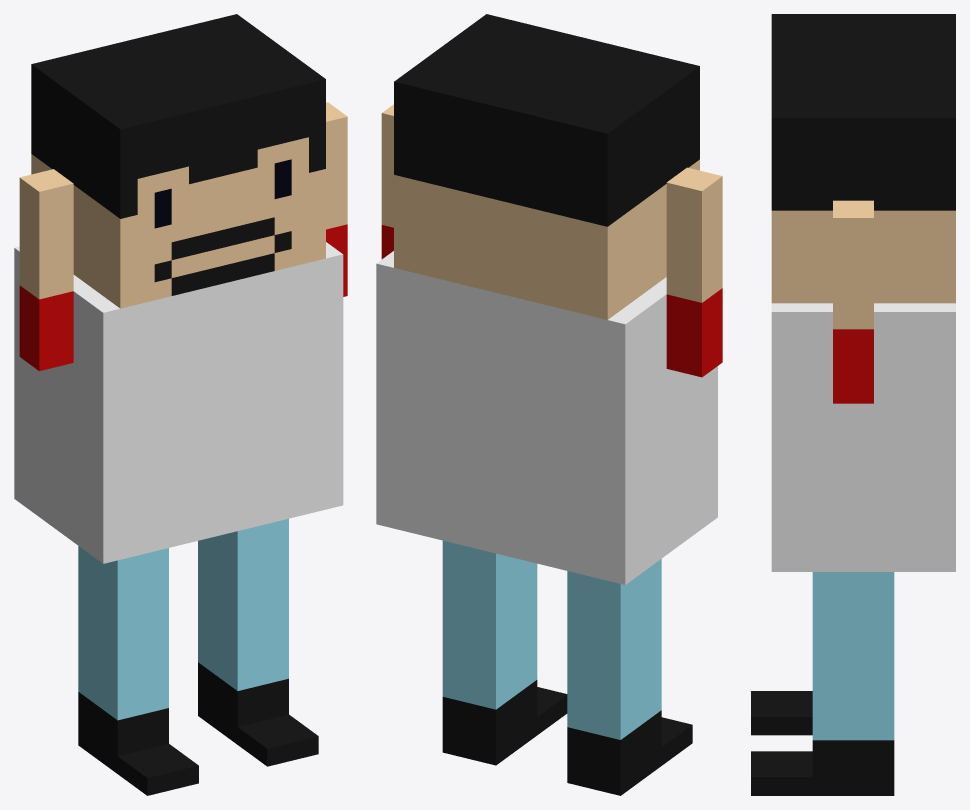
File: FanVar3.obj
The picture shows the model from 3 angles, left to right: view 1: azimuth 30°, elevation 25°; view 2: azimuth 150°, elevation 25°; view 3: azimuth 270°, elevation 25°; orthographic projection. The views are drawn at different scales.
Parts seen in each view (by area): view 1: FanVar3; view 2: FanVar3; view 3: FanVar3.
Part boxes in pixels (x1,y1,x2,y2): FanVar3: [14, 14, 347, 795]; FanVar3: [376, 14, 722, 795]; FanVar3: [751, 14, 955, 795].
Size of the model in its own units: 18 by 37 by 10.
